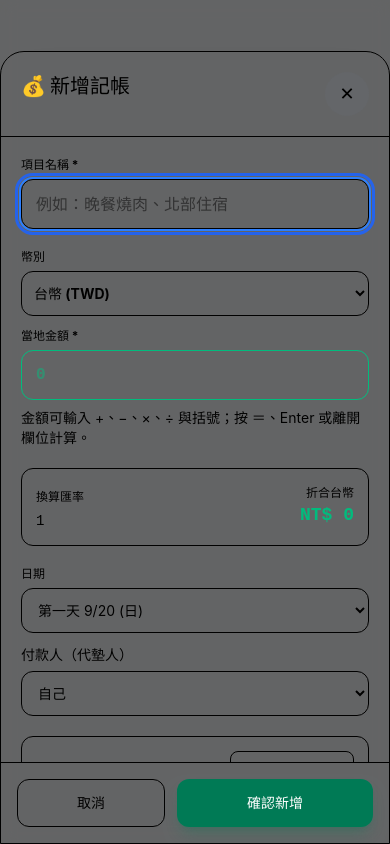
Test case: ExpenseModal Phase 2B 表單流程 › 切成平均分帳時保留的自訂草稿，換幣後仍使用新幣別
The width and height of the screenshot is (390, 844).
Type "420" into the field with test id "expense-local-cost-input" at (195, 375), box x1=21 y1=350 x2=369 y2=400
(page scrolled)
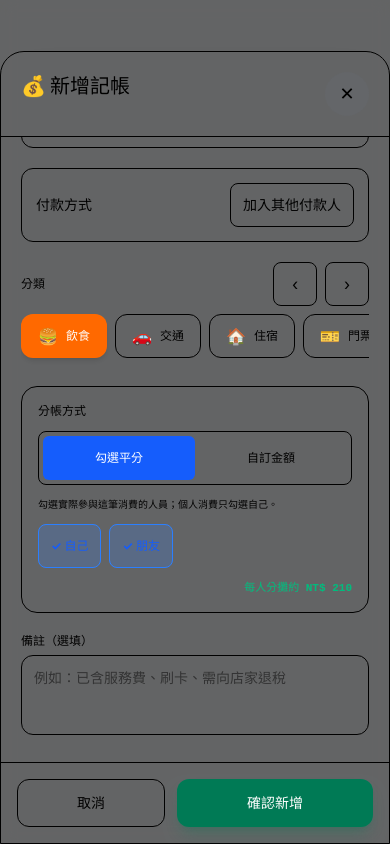
Click the button with test id "expense-split-custom-button" at (271, 458), box x1=195 y1=436 x2=347 y2=480
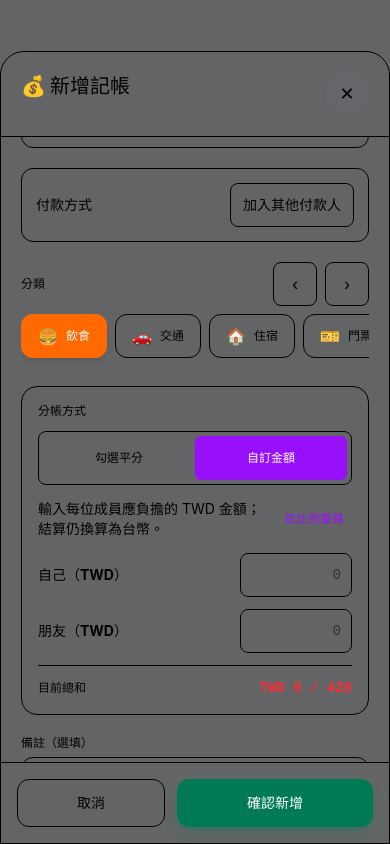
Type "300" into the field named "自己 自訂分帳金額（TWD）" at (296, 575), box x1=240 y1=553 x2=352 y2=597
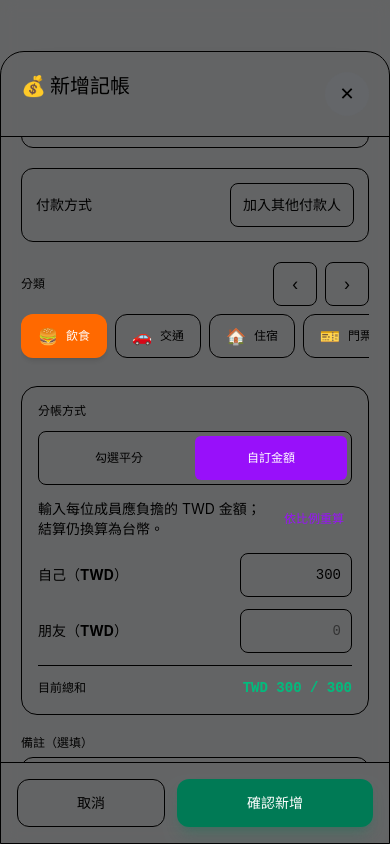
Type "120" into the field named "朋友 自訂分帳金額（TWD）" at (296, 631), box x1=240 y1=609 x2=352 y2=653
Click the button with test id "expense-split-equal-button" at (119, 458), box x1=43 y1=436 x2=195 y2=480
(page scrolled)
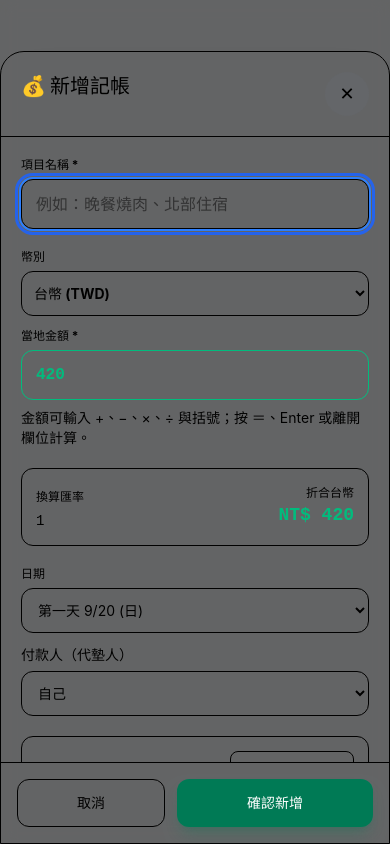
Select "日幣 (JPY)" in the dropdown with test id "expense-currency-select" at (195, 293), box x1=21 y1=271 x2=369 y2=316
(page scrolled)
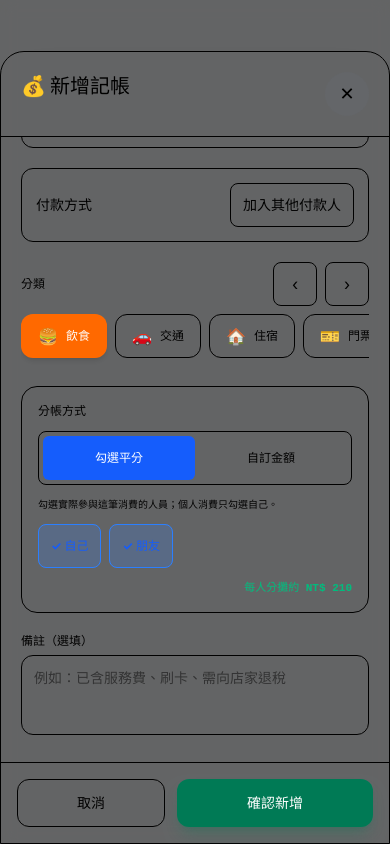
Click the button with test id "expense-split-custom-button" at (271, 458), box x1=195 y1=436 x2=347 y2=480
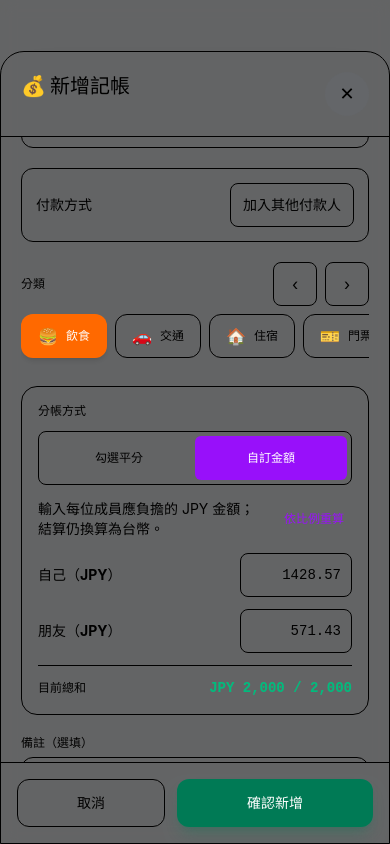
Check: the field named "自己 自訂分帳金額（JPY）" holds "1428.57", box x1=240 y1=553 x2=352 y2=597
Check: the field named "朋友 自訂分帳金額（JPY）" holds "571.43", box x1=240 y1=609 x2=352 y2=653
